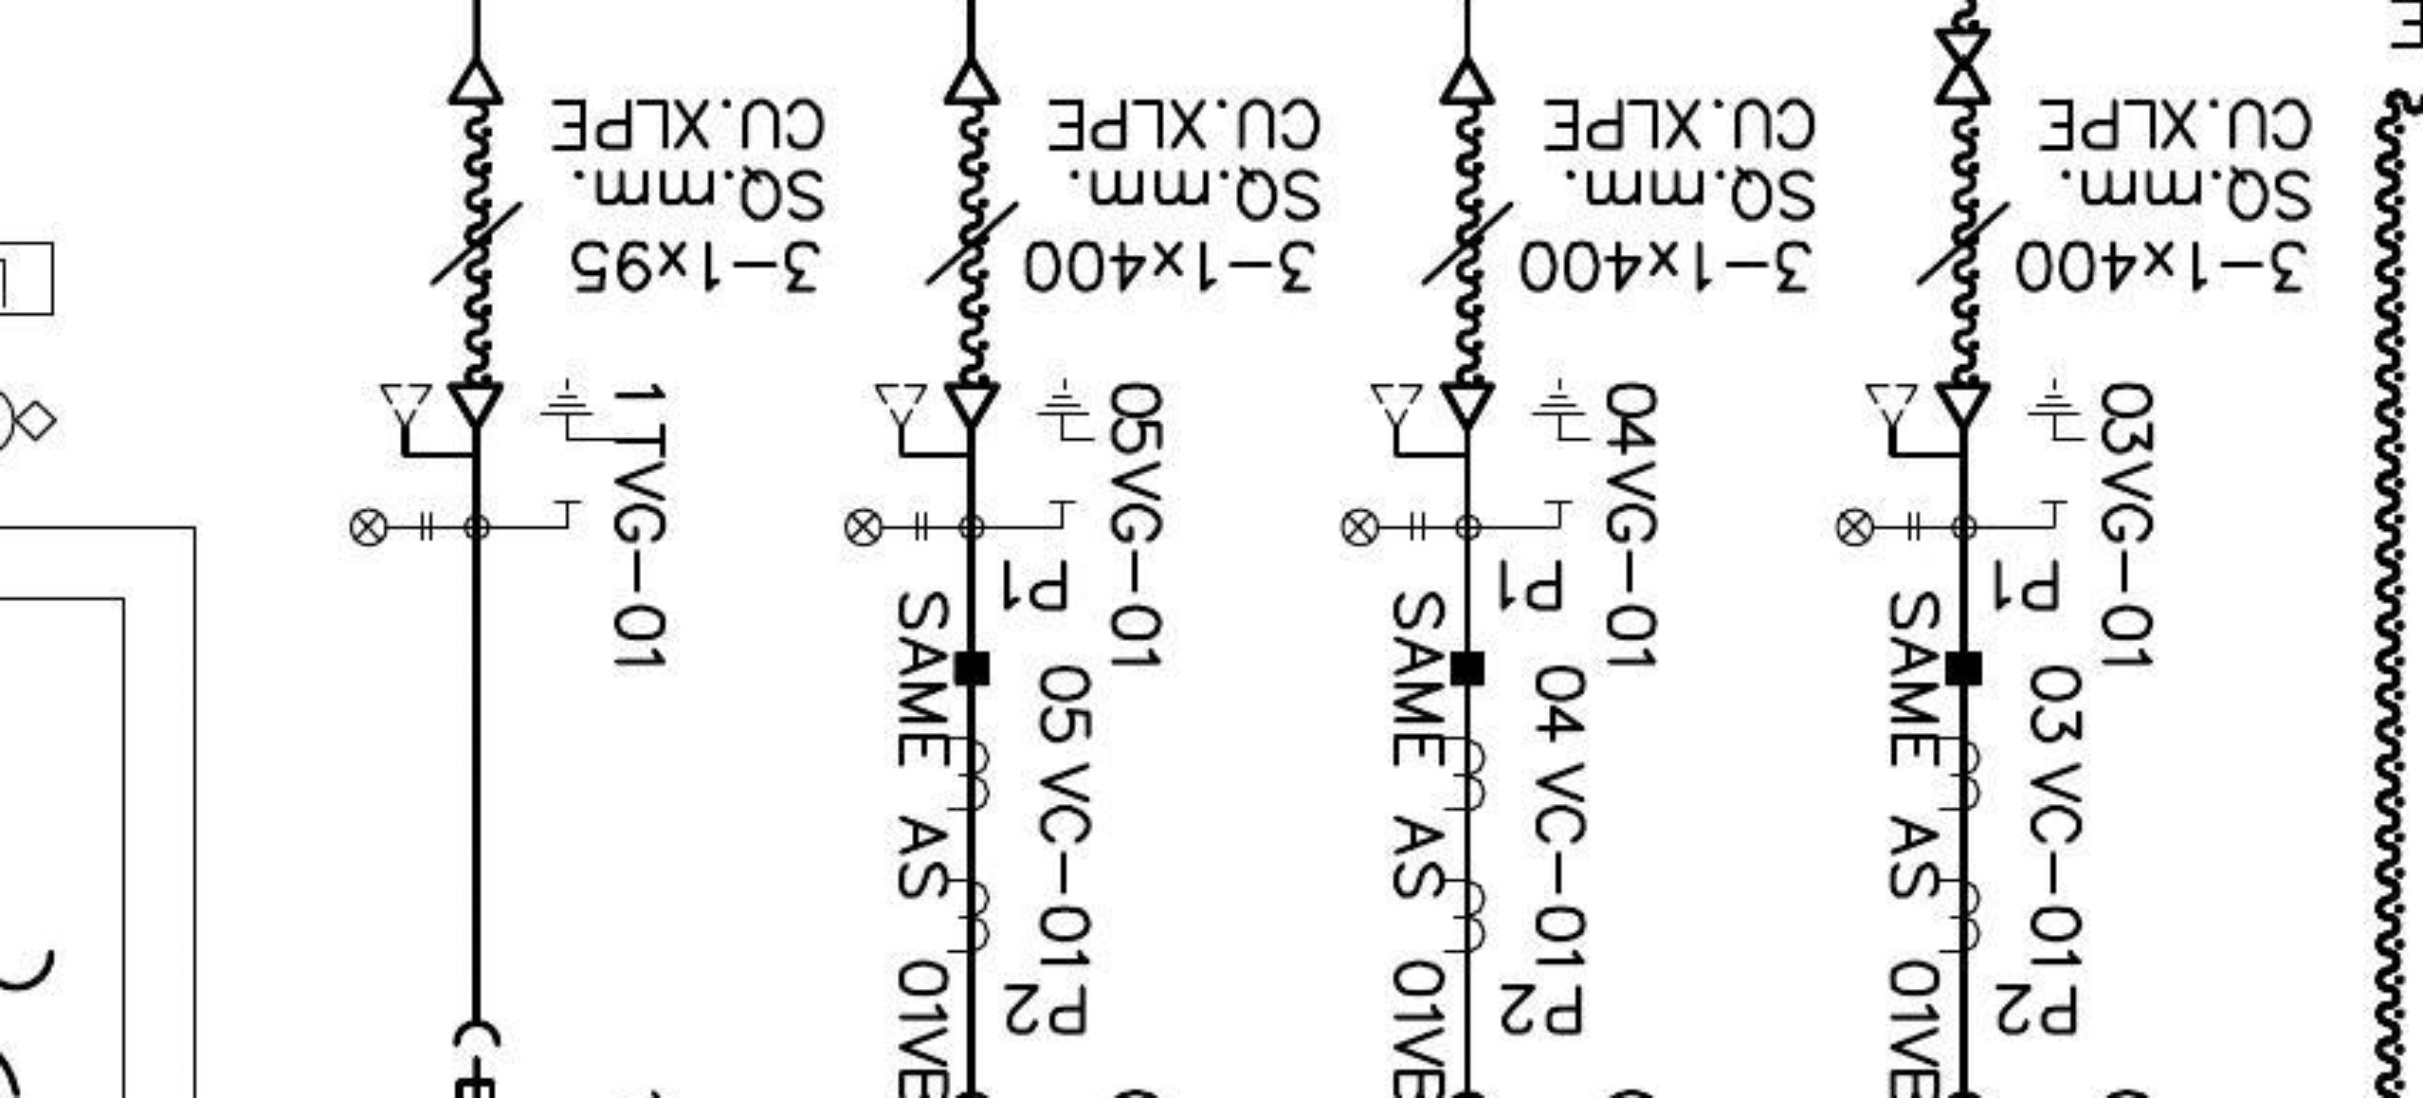22_gs: (541, 378, 620, 508), (1528, 378, 1595, 510), (2024, 378, 2091, 508), (1037, 378, 1100, 508)
22_ll: (1833, 507, 1922, 550), (1338, 507, 1428, 550), (842, 507, 932, 550), (346, 507, 436, 550)
terminator_single: (442, 56, 507, 110), (1436, 56, 1500, 110), (940, 56, 1004, 108)
terminator_splicing_kits: (1933, 28, 1993, 107)
terminator_w_future: (872, 380, 1006, 463), (376, 380, 510, 463), (1861, 380, 1993, 463), (1364, 380, 1497, 463)
